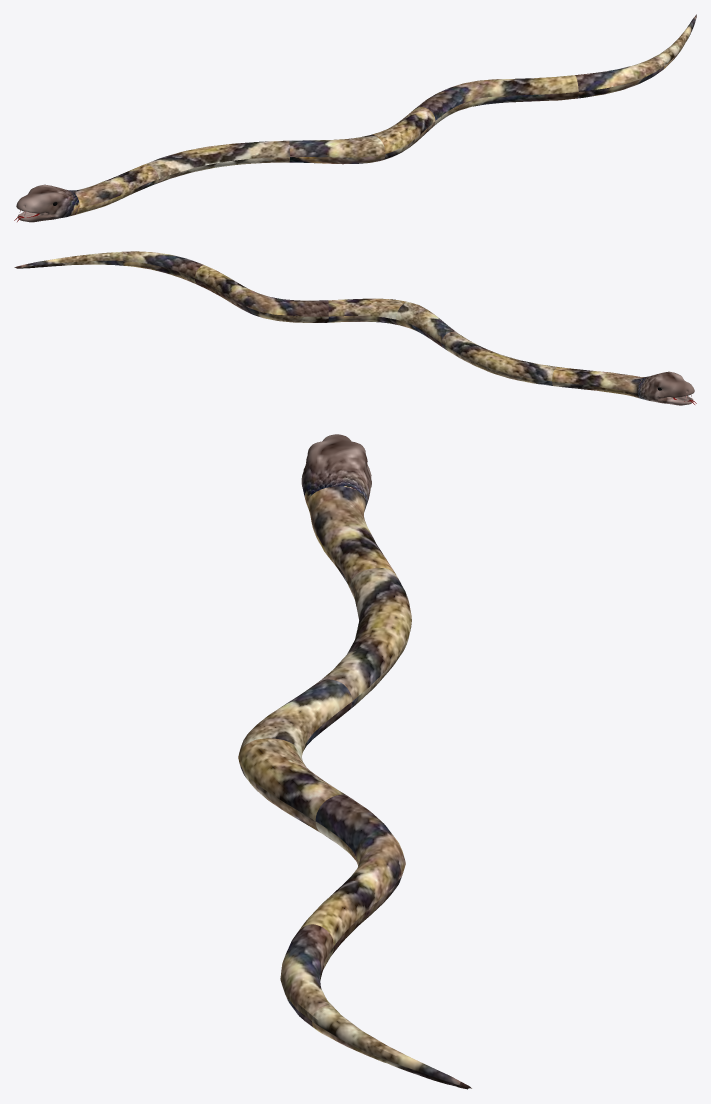
Rendered from snake.fbx.
3 views of the same model, one above another, from view 1: azimuth 30°, elevation 25°; view 2: azimuth 150°, elevation 25°; view 3: azimuth 270°, elevation 25° (orthographic). The views are drawn at different scales.
Visible parts, largest first — view 1: Retopo_Cube_5; view 2: Retopo_Cube_5; view 3: Retopo_Cube_5.
Boxes of the visible parts, <box> form: Retopo_Cube_5: <box>16,14,696,222</box>; Retopo_Cube_5: <box>14,251,694,405</box>; Retopo_Cube_5: <box>238,434,471,1089</box>.
Size of the model in its own units: 1073 by 45.36 by 168.
